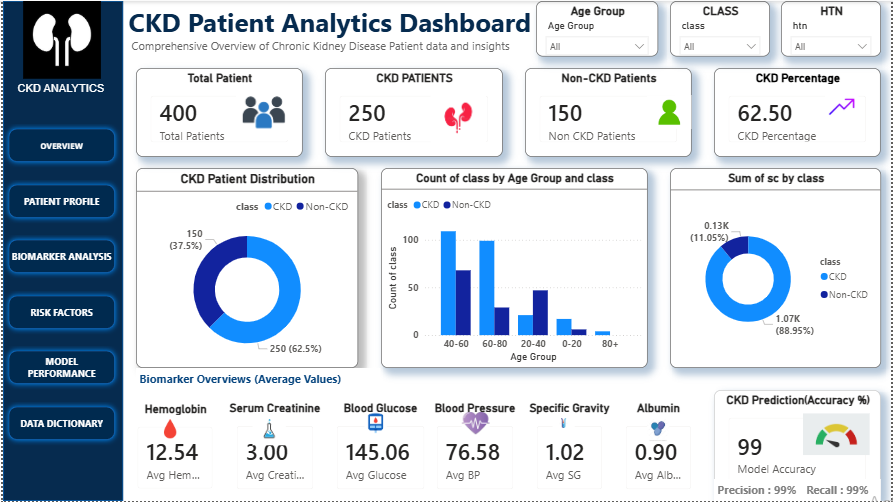

What the dashboard file says about the page in this screenshot:
{"tool":"powerbi","page":{"name":"Patient Analysis","canvas":[1280,720],"ordinal":0},"visuals":[{"type":"donutChart","title":"CKD Patient Distribution","fields":{"Category":["dashboard_dataset_real.class"],"Y":["CountNonNull(dashboard_dataset_real.class)"]},"box":[192,240,224,288],"z":0},{"type":"shape","title":"CKD ANALYTICS","box":[0,0,173.1,720],"z":1000},{"type":"image","box":[0,0,169.2,112],"z":2000},{"type":"textbox","box":[15.4,112,138.5,32],"z":3000},{"type":"shape","box":[0,176,169.2,64],"z":4000},{"type":"shape","box":[0,256,169.2,64],"z":5000},{"type":"shape","box":[0,336,169.2,64],"z":6000},{"type":"shape","box":[0,416,169.2,64],"z":7000},{"type":"shape","box":[0,496,169.2,64],"z":8000},{"type":"shape","box":[0,576,169.2,64],"z":9000},{"type":"textbox","box":[176,0,592,96],"z":10000},{"type":"cardVisual","title":"Total Patient","fields":{"Data":["dashboard_dataset_real.Total Patients"]},"box":[192,96,224,128],"z":11000},{"type":"image","box":[336,112,80,96],"z":12000},{"type":"cardVisual","title":"CKD PATIENTS","fields":{"Data":["dashboard_dataset_real.CKD Patients"]},"box":[432,96,288,128],"z":13000},{"type":"image","box":[576,128,96,80],"z":14000},{"type":"cardVisual","title":"Non-CKD Patients","fields":{"Data":["dashboard_dataset_real.Non CKD Patients"]},"box":[736,96,256,128],"z":15000},{"type":"image","box":[896,128,64,64],"z":16000},{"type":"cardVisual","title":"CKD Percentage","fields":{"Data":["dashboard_dataset_real.CKD Percentage"]},"box":[1008,96,256,128],"z":17000},{"type":"image","box":[1168,128,80,48],"z":18000},{"type":"slicer","title":"Age Group","fields":{"Values":["dashboard_dataset_real.Age Group"]},"box":[768,0,176,80],"z":19000},{"type":"slicer","title":"CLASS","fields":{"Values":["dashboard_dataset_real.class"]},"box":[960,0,144,80],"z":20000},{"type":"slicer","title":"HTN","fields":{"Values":["dashboard_dataset_real.htn"]},"box":[1120,0,144,80],"z":21000},{"type":"clusteredColumnChart","title":"Age Distribution by CKD Status","fields":{"Category":["dashboard_dataset_real.Age Group"],"Series":["dashboard_dataset_real.class"],"Y":["CountNonNull(dashboard_dataset_real.class)"]},"box":[432,240,288,288],"z":22000},{"type":"cardVisual","title":"Hemoglobin","fields":{"Data":["dashboard_dataset_real.Avg Hemoglobin"]},"box":[176,576,144,144],"z":23000},{"type":"image","box":[224,592,32,48],"z":24000},{"type":"cardVisual","title":"Serum Creatinine","fields":{"Data":["dashboard_dataset_real.Avg Creatinine"]},"box":[320,576,144,144],"z":25000},{"type":"image","box":[368,592,32,32],"z":26000},{"type":"cardVisual","title":"Blood Glucose","fields":{"Data":["dashboard_dataset_real.Avg Glucose"]},"box":[464,576,160,144],"z":27000},{"type":"image","box":[512,592,48,32],"z":28000},{"type":"cardVisual","title":"Blood Pressure","fields":{"Data":["dashboard_dataset_real.Avg BP"]},"box":[608,576,144,144],"z":29000},{"type":"image","box":[656,608,32,32],"z":30000},{"type":"cardVisual","title":"Specific Gravity","fields":{"Data":["dashboard_dataset_real.Avg SG"]},"box":[752,576,128,144],"z":31000},{"type":"image","box":[832,608,48,32],"z":32000},{"type":"cardVisual","title":"Albumin","fields":{"Data":["dashboard_dataset_real.Avg Albumin"]},"box":[880,576,128,144],"z":33000},{"type":"image","box":[928,592,32,48],"z":34000},{"type":"textbox","box":[192,528,352,32],"z":35000},{"type":"cardVisual","title":"CKD Prediction(Accuracy %)","fields":{"Data":["dashboard_dataset_real.Model Accuracy"]},"box":[1024,560,240,160],"z":36000},{"type":"image","box":[1152,608,96,64],"z":37000},{"type":"textbox","box":[1024,688,128,32],"z":38000},{"type":"textbox","box":[1152,688,112,32],"z":39000},{"type":"clusteredColumnChart","title":"Average Serum Creatinine by CKD Status","fields":{"Category":["dashboard_dataset_real.class"],"Y":["Avg(dashboard_dataset_real.sc)"]},"box":[736,240,256,288],"z":40000},{"type":"donutChart","title":"Risk Level Distribution","fields":{"Category":["dashboard_dataset_real.Risk Level"],"Y":["CountNonNull(dashboard_dataset_real.Risk Level)"]},"box":[1008,240,256,288],"z":41000}]}

Visuals, with their boxes in screenshot pixels (x1, y1, x2, y2), scaled from the page's 1280x720 canvas onto the 893x502 screenshot:
"CKD Patient Distribution" donutChart: Rect(134, 167, 290, 368)
"CKD ANALYTICS" shape: Rect(0, 0, 121, 501)
image: Rect(0, 0, 118, 78)
textbox: Rect(11, 78, 107, 100)
shape: Rect(0, 123, 118, 167)
shape: Rect(0, 178, 118, 223)
shape: Rect(0, 234, 118, 279)
shape: Rect(0, 290, 118, 335)
shape: Rect(0, 346, 118, 390)
shape: Rect(0, 402, 118, 446)
textbox: Rect(123, 0, 536, 67)
"Total Patient" cardVisual: Rect(134, 67, 290, 156)
image: Rect(234, 78, 290, 145)
"CKD PATIENTS" cardVisual: Rect(301, 67, 502, 156)
image: Rect(402, 89, 469, 145)
"Non-CKD Patients" cardVisual: Rect(513, 67, 692, 156)
image: Rect(625, 89, 670, 134)
"CKD Percentage" cardVisual: Rect(703, 67, 882, 156)
image: Rect(815, 89, 871, 123)
"Age Group" slicer: Rect(536, 0, 659, 56)
"CLASS" slicer: Rect(670, 0, 770, 56)
"HTN" slicer: Rect(781, 0, 882, 56)
"Age Distribution by CKD Status" clusteredColumnChart: Rect(301, 167, 502, 368)
"Hemoglobin" cardVisual: Rect(123, 402, 223, 501)
image: Rect(156, 413, 179, 446)
"Serum Creatinine" cardVisual: Rect(223, 402, 324, 501)
image: Rect(257, 413, 279, 435)
"Blood Glucose" cardVisual: Rect(324, 402, 435, 501)
image: Rect(357, 413, 391, 435)
"Blood Pressure" cardVisual: Rect(424, 402, 525, 501)
image: Rect(458, 424, 480, 446)
"Specific Gravity" cardVisual: Rect(525, 402, 614, 501)
image: Rect(580, 424, 614, 446)
"Albumin" cardVisual: Rect(614, 402, 703, 501)
image: Rect(647, 413, 670, 446)
textbox: Rect(134, 368, 380, 390)
"CKD Prediction(Accuracy %)" cardVisual: Rect(714, 390, 882, 501)
image: Rect(804, 424, 871, 469)
textbox: Rect(714, 480, 804, 501)
textbox: Rect(804, 480, 882, 501)
"Average Serum Creatinine by CKD Status" clusteredColumnChart: Rect(513, 167, 692, 368)
"Risk Level Distribution" donutChart: Rect(703, 167, 882, 368)
